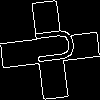U: (25, 25, 76, 67)
